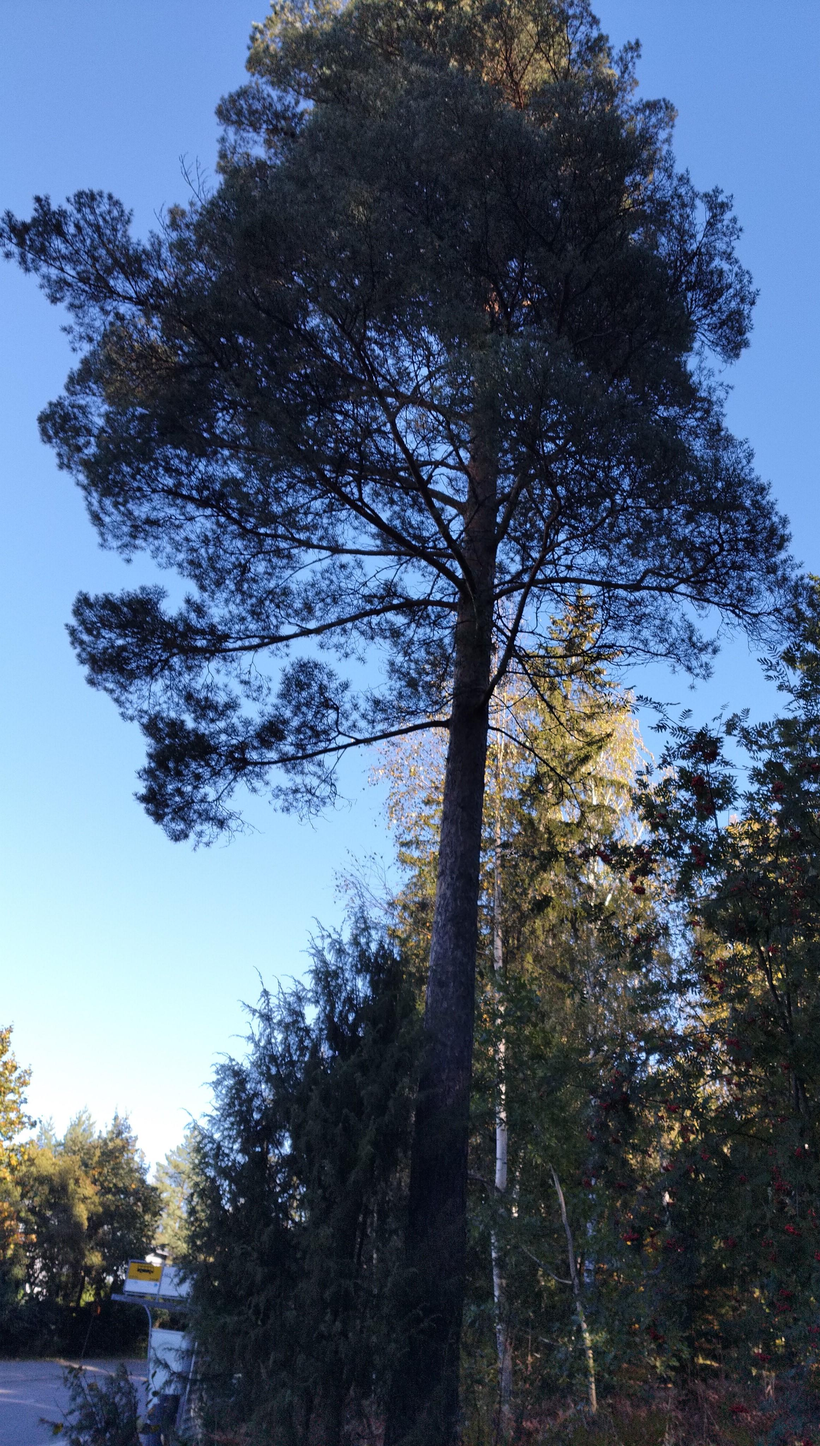Pine: (0, 2, 770, 1443)
